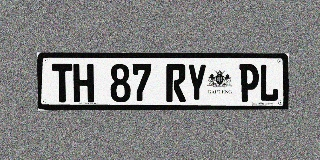7: (131, 64, 151, 102)
8: (110, 64, 131, 102)
H: (73, 64, 94, 102)
L: (259, 64, 279, 102)
P: (239, 64, 259, 102)
R: (166, 64, 186, 102)
T: (52, 64, 73, 102)
Y: (187, 64, 207, 102)
